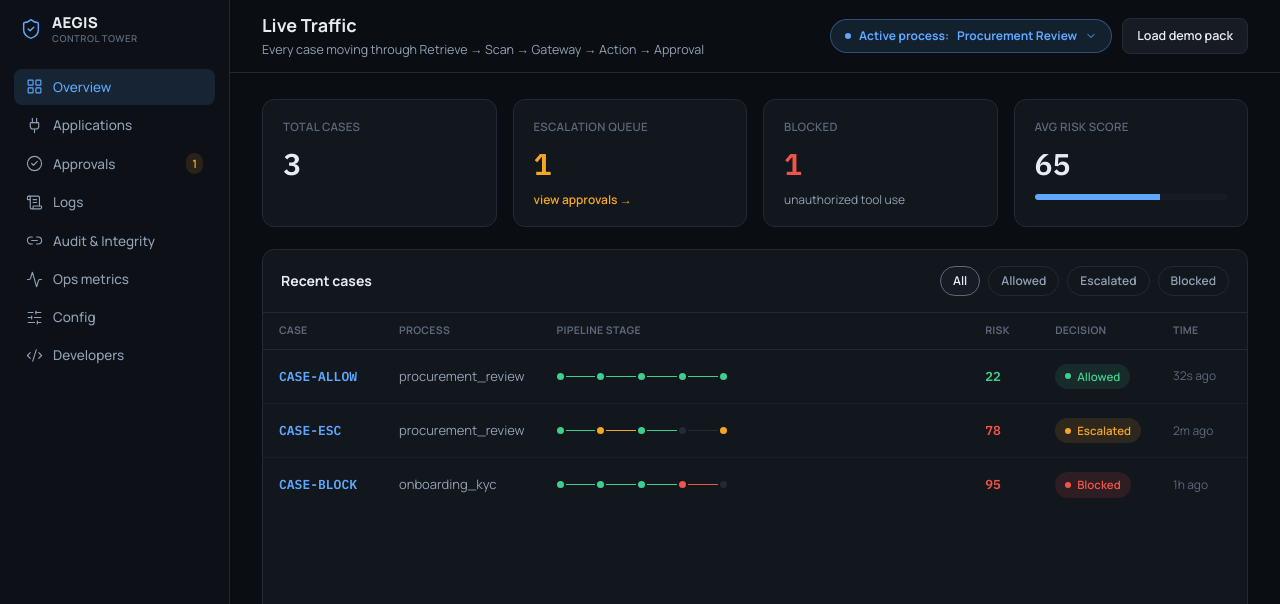
it: App routing integration › opens case detail from overview link
Click the link "CASE-ALLOW".
click(318, 376)  # box [279, 368, 357, 385]
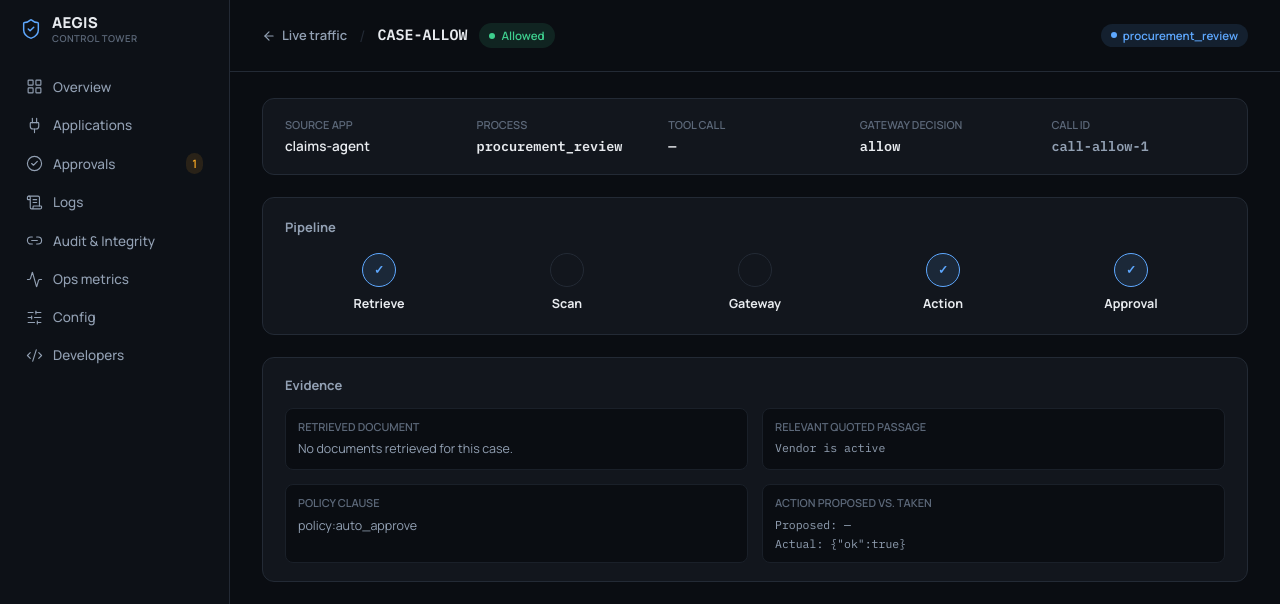
Check: the link "Live traffic" is shown, box [262, 26, 347, 45]
Check: the text "CASE-ALLOW" is shown, box [377, 24, 467, 47]
